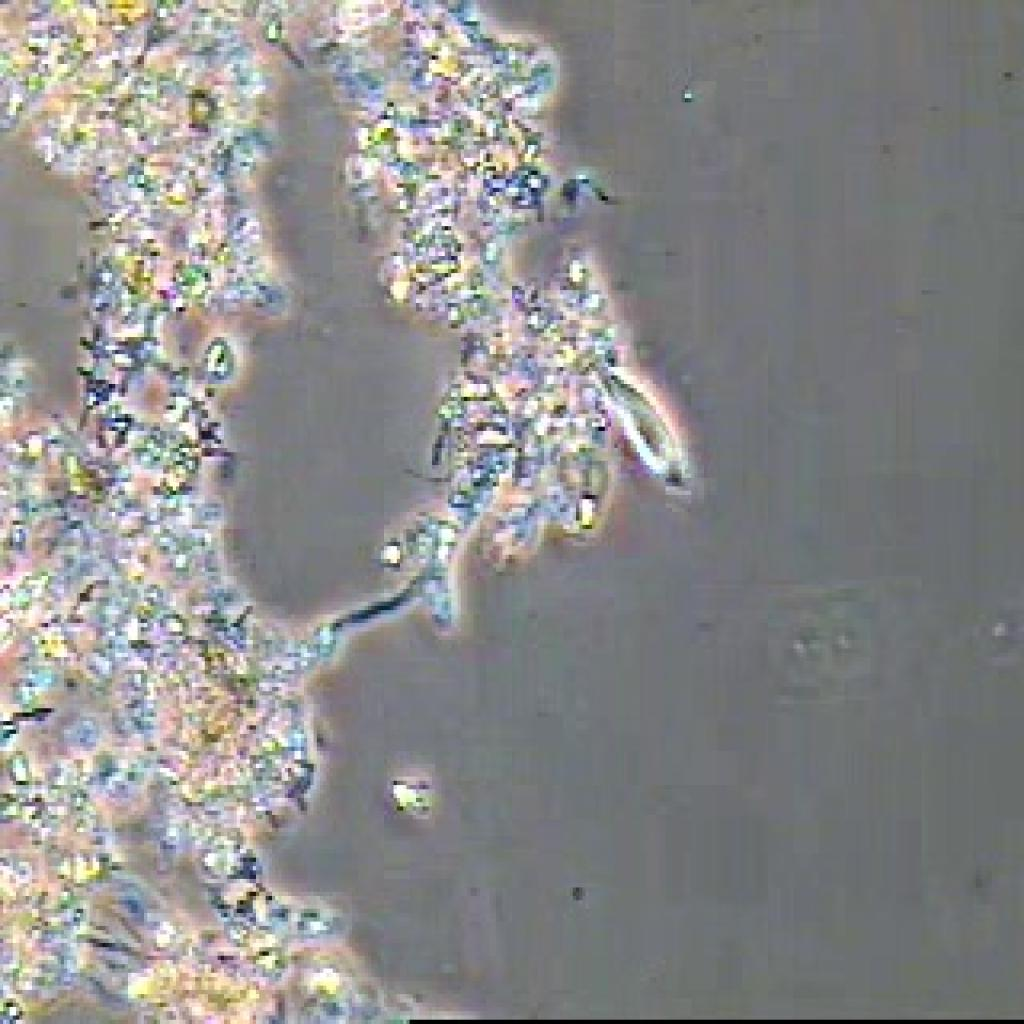Pristina: (592, 367, 710, 503)
